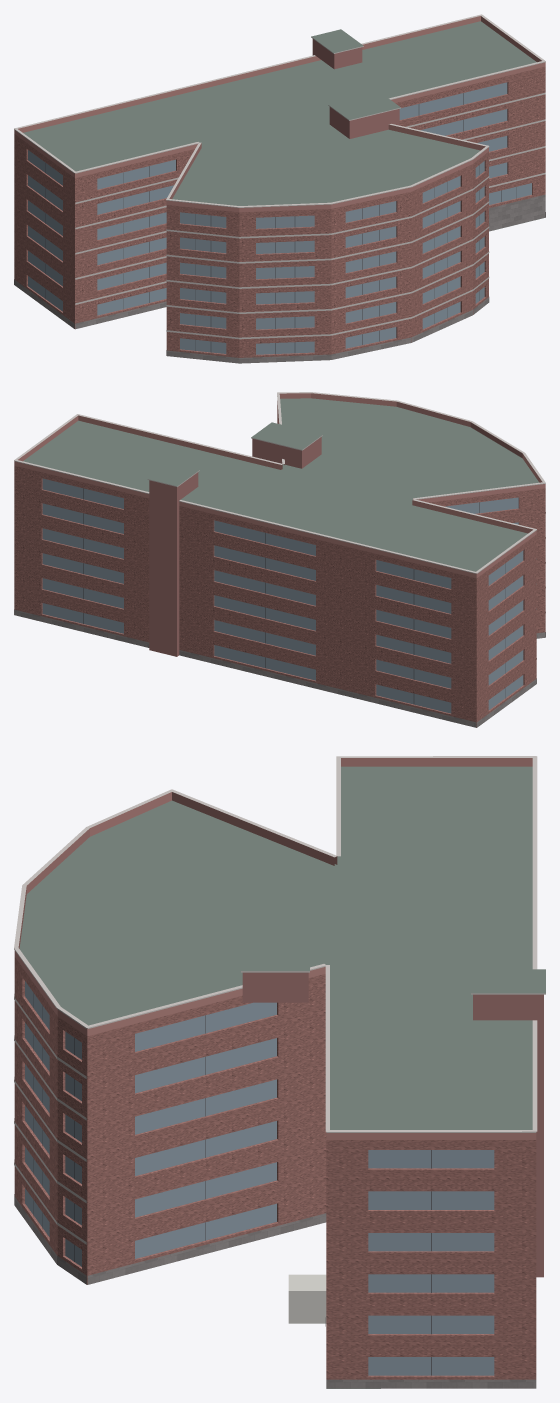
3 views of the same model, one above another, from view 1: azimuth 30°, elevation 25°; view 2: azimuth 150°, elevation 25°; view 3: azimuth 270°, elevation 25° (orthographic). The views are drawn at different scales.
Visible parts, largest first — view 1: b83__wall, b83__roof, b83__glass, b83__trim, b83__parapet, b83__base, b83__wall2, b83__frame; view 2: b83__wall, b83__roof, b83__glass, b83__wall2, b83__parapet, b83__trim, b83__base; view 3: b83__roof, b83__wall, b83__glass, b83__trim, b83__parapet, b83__wall2, b83__base, b83__entranceStair.
Part boxes in pixels (x1,y1,x2,y2): b83__wall: (14, 66, 545, 357); b83__roof: (23, 21, 543, 230); b83__glass: (28, 82, 531, 354); b83__trim: (14, 14, 545, 339); b83__parapet: (14, 16, 545, 212); b83__base: (14, 194, 545, 363); b83__wall2: (312, 39, 399, 138); b83__frame: (45, 93, 516, 354); b83__wall: (14, 401, 545, 727); b83__roof: (23, 398, 538, 571); b83__glass: (42, 478, 523, 713); b83__wall2: (149, 437, 321, 656); b83__parapet: (14, 393, 545, 578); b83__trim: (14, 392, 545, 659); b83__base: (14, 609, 545, 727); b83__roof: (19, 766, 545, 1388); b83__wall: (14, 957, 536, 1379); b83__glass: (25, 981, 494, 1375); b83__trim: (14, 756, 545, 1244); b83__parapet: (14, 758, 536, 1139); b83__wall2: (242, 972, 543, 1277); b83__base: (14, 1194, 536, 1388); b83__entranceStair: (288, 1274, 326, 1323).
Size of the model in its own units: 70.04 by 25.05 by 41.92.
10 materials, 2 textured.
